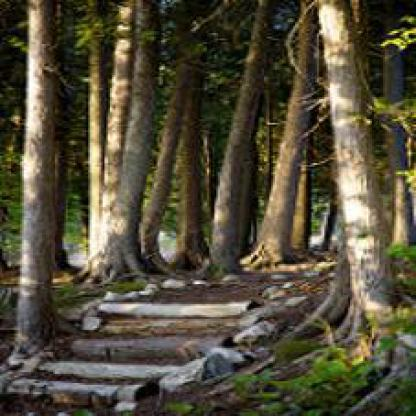stair_up: (18, 273, 222, 400)
